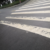zebra: (1, 1, 49, 39)
